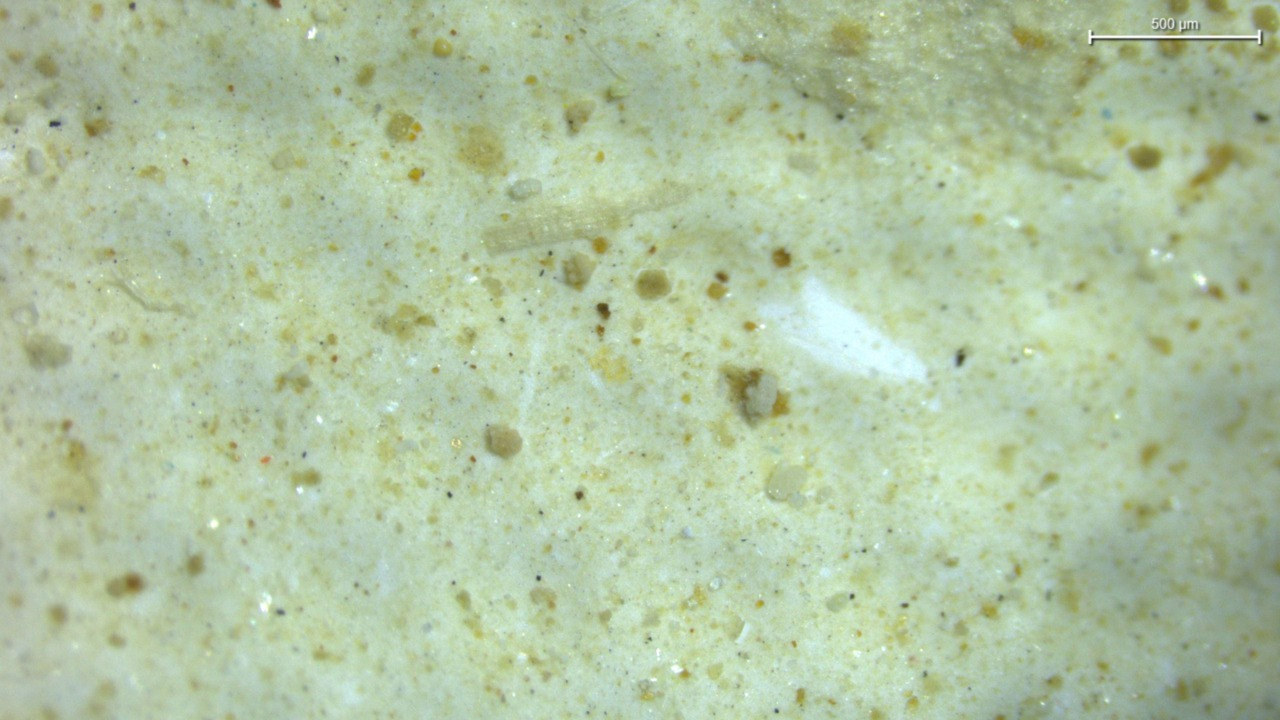microplastic_fragment: (481, 187, 687, 253), (765, 464, 808, 507), (744, 374, 777, 417), (484, 423, 522, 458), (508, 179, 542, 201)
